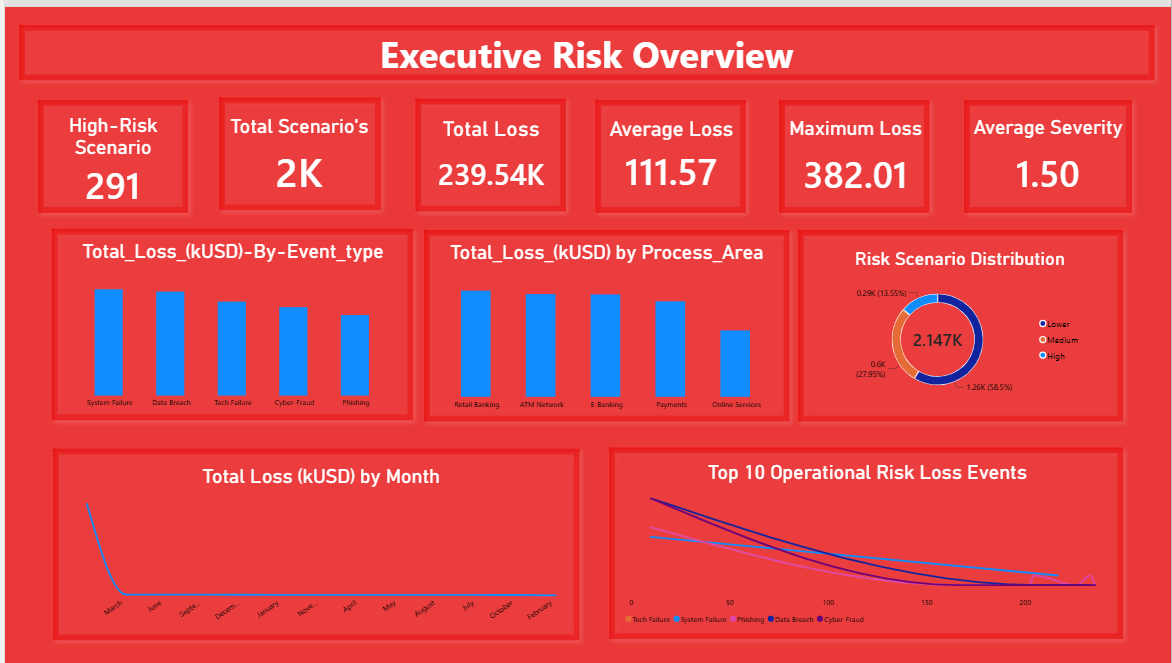

The page's visual inventory and layout, read from the dashboard file:
{"tool":"powerbi","page":{"name":"Executive Risk Overview","canvas":[1920,1080],"ordinal":0},"visuals":[{"type":"shape","box":[10.3,16.5,1895.7,117.3],"z":0},{"type":"shape","box":[339.2,135.8,292.3,212],"z":1000},{"type":"cardVisual","title":"Total Scenario''s","fields":{"Data":["Operational_Risk_Events_clean.Total_Scenarios"]},"box":[347.4,177,273.8,131.7],"z":2000},{"type":"shape","box":[662.4,137.9,273.8,212],"z":3000},{"type":"shape","box":[958.8,140,273.8,212],"z":4000},{"type":"shape","box":[1566,140,302.6,212],"z":5000},{"type":"shape","box":[1261.3,140,273.8,212],"z":6000},{"type":"cardVisual","title":"Total Loss","fields":{"Data":["Operational_Risk_Events_clean.Total_Loss_(kUSD)"]},"box":[691.2,179.1,218.2,131.7],"z":7000},{"type":"cardVisual","title":"Average Loss","fields":{"Data":["Operational_Risk_Events_clean.Average_Loss_(kUSD)"]},"box":[981.4,181.1,230.5,119.4],"z":8000},{"type":"cardVisual","title":"Maximum Loss","fields":{"Data":["Operational_Risk_Events_clean.Maximum_Loss_(kUSD)"]},"box":[1251.1,181.1,298.5,131.7],"z":9000},{"type":"shape","box":[40.8,140,273.8,212],"z":10000},{"type":"cardVisual","title":"Average Severity","fields":{"Data":["Operational_Risk_Events_clean.Average_Severity"]},"box":[1576.3,179.1,282,133.8],"z":11000},{"type":"cardVisual","title":"High-Risk Scenario","fields":{"Data":["Operational_Risk_Events_clean.High_Risk_Scenarios"]},"box":[40.8,175,273.8,142],"z":12000},{"type":"shape","box":[63.8,352,621.6,341.7],"z":13000},{"type":"shape","box":[676.4,353.6,627.8,341.7],"z":14000},{"type":"clusteredColumnChart","title":"Total_Loss_(kUSD)-By-Event_type","fields":{"Category":["Operational_Risk_Events_clean.Event_Type"],"Y":["Operational_Risk_Events_clean.Total_Loss_(kUSD)"]},"box":[107,382.8,537.2,282],"z":15000},{"type":"clusteredColumnChart","fields":{"Y":["Operational_Risk_Events_clean.Total_Loss_(kUSD)"],"Category":["Operational_Risk_Events_clean.Process_Area"]},"box":[707.2,384.5,566,282],"z":16000},{"type":"shape","box":[65.9,714.2,893.3,341.7],"z":17000},{"type":"lineChart","title":"Total Loss (kUSD) by Month","fields":{"Category":["Operational_Risk_Events_clean.Event_Month_Name"],"Y":["Operational_Risk_Events_clean.Total_Loss_(kUSD)"]},"box":[109.1,753.3,823.3,263.5],"z":18000},{"type":"shape","box":[981.8,712.2,872.7,341.7],"z":18500},{"type":"lineChart","title":"Top 10 Operational Risk Loss Events","fields":{"Category":["Operational_Risk_Events_clean.Loss_Amount_(kUSD)"],"Y":["CountNonNull(Operational_Risk_Events_clean.Scenario_ID)"],"Series":["Operational_Risk_Events_clean.Event_Type"]},"box":[1020.9,747.2,798.6,273.8],"z":19000},{"type":"shape","box":[1292.6,354,561.9,341.7],"z":20000},{"type":"donutChart","title":"Risk Scenario Distribution","fields":{"Category":["Operational_Risk_Events_clean.Risk_Band"],"Y":["CountNonNull(Operational_Risk_Events_clean.Scenario_ID)"]},"box":[1352.3,382.8,440.5,279.9],"z":21000}]}

Visuals, with their boxes in screenshot pixels (x1, y1, x2, y2), scaled from the page's 1920x1080 canvas onto the 1172x663 screenshot:
shape: l=6, t=10, r=1163, b=82
shape: l=207, t=83, r=385, b=214
"Total Scenario''s" cardVisual: l=212, t=109, r=379, b=190
shape: l=404, t=85, r=571, b=215
shape: l=585, t=86, r=752, b=216
shape: l=956, t=86, r=1141, b=216
shape: l=770, t=86, r=937, b=216
"Total Loss" cardVisual: l=422, t=110, r=555, b=191
"Average Loss" cardVisual: l=599, t=111, r=740, b=184
"Maximum Loss" cardVisual: l=764, t=111, r=946, b=192
shape: l=25, t=86, r=192, b=216
"Average Severity" cardVisual: l=962, t=110, r=1134, b=192
"High-Risk Scenario" cardVisual: l=25, t=107, r=192, b=195
shape: l=39, t=216, r=418, b=426
shape: l=413, t=217, r=796, b=427
"Total_Loss_(kUSD)-By-Event_type" clusteredColumnChart: l=65, t=235, r=393, b=408
clusteredColumnChart - Operational_Risk_Events_clean.Total_Loss_(kUSD) x Operational_Risk_Events_clean.Process_Area: l=432, t=236, r=777, b=409
shape: l=40, t=438, r=586, b=648
"Total Loss (kUSD) by Month" lineChart: l=67, t=462, r=569, b=624
shape: l=599, t=437, r=1132, b=647
"Top 10 Operational Risk Loss Events" lineChart: l=623, t=459, r=1111, b=627
shape: l=789, t=217, r=1132, b=427
"Risk Scenario Distribution" donutChart: l=825, t=235, r=1094, b=407
